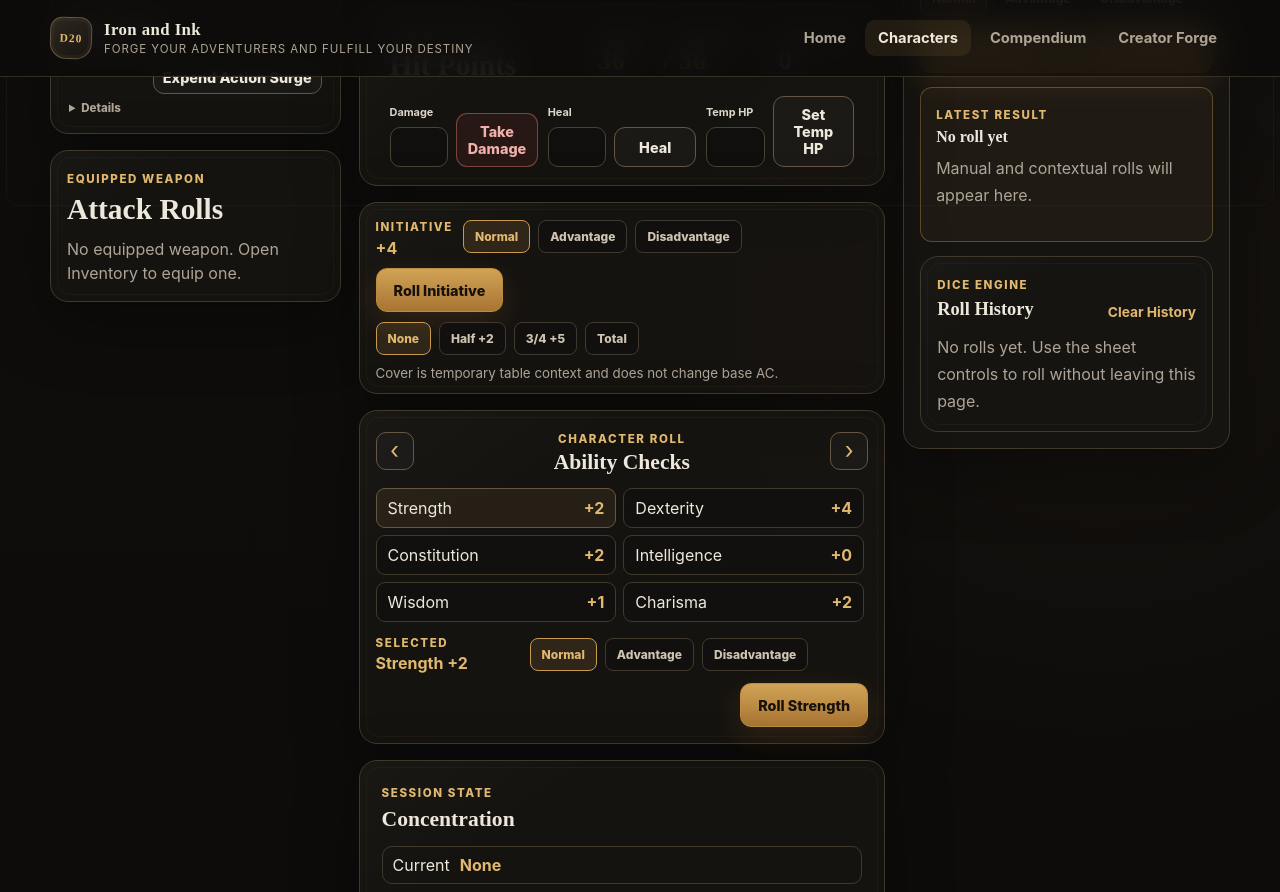
Test: PLAY UI stabilization checkpoint › H/J/M rolls Athletics with its existing modifier and feeds Latest Result plus Roll History
The image size is (1280, 892).
(page scrolled)
Click the button named "Next Character Roll category" at [849, 451], box top-left (830, 432), bottom-right (868, 470)
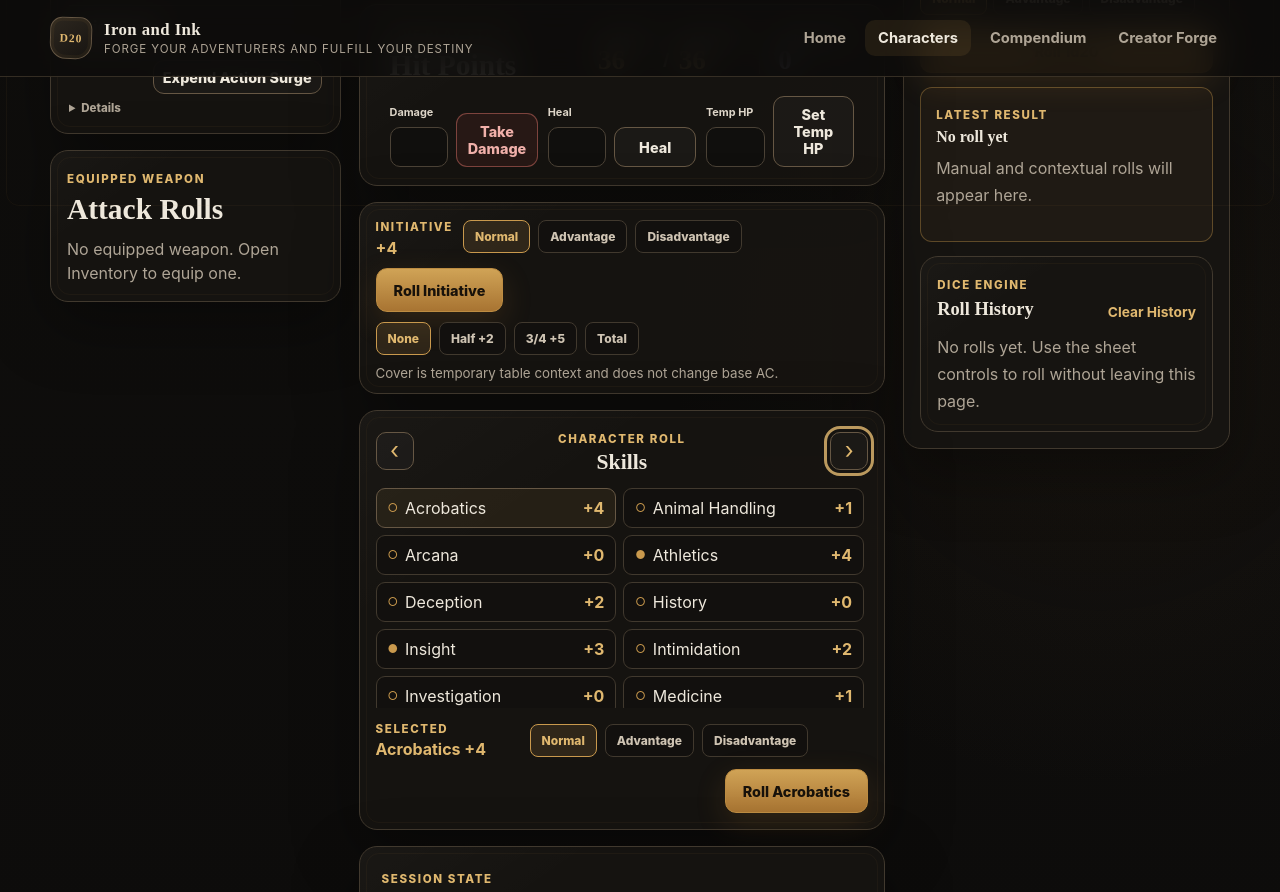
Click the button "● Athletics +4" at [744, 555], box top-left (623, 535), bottom-right (864, 575)
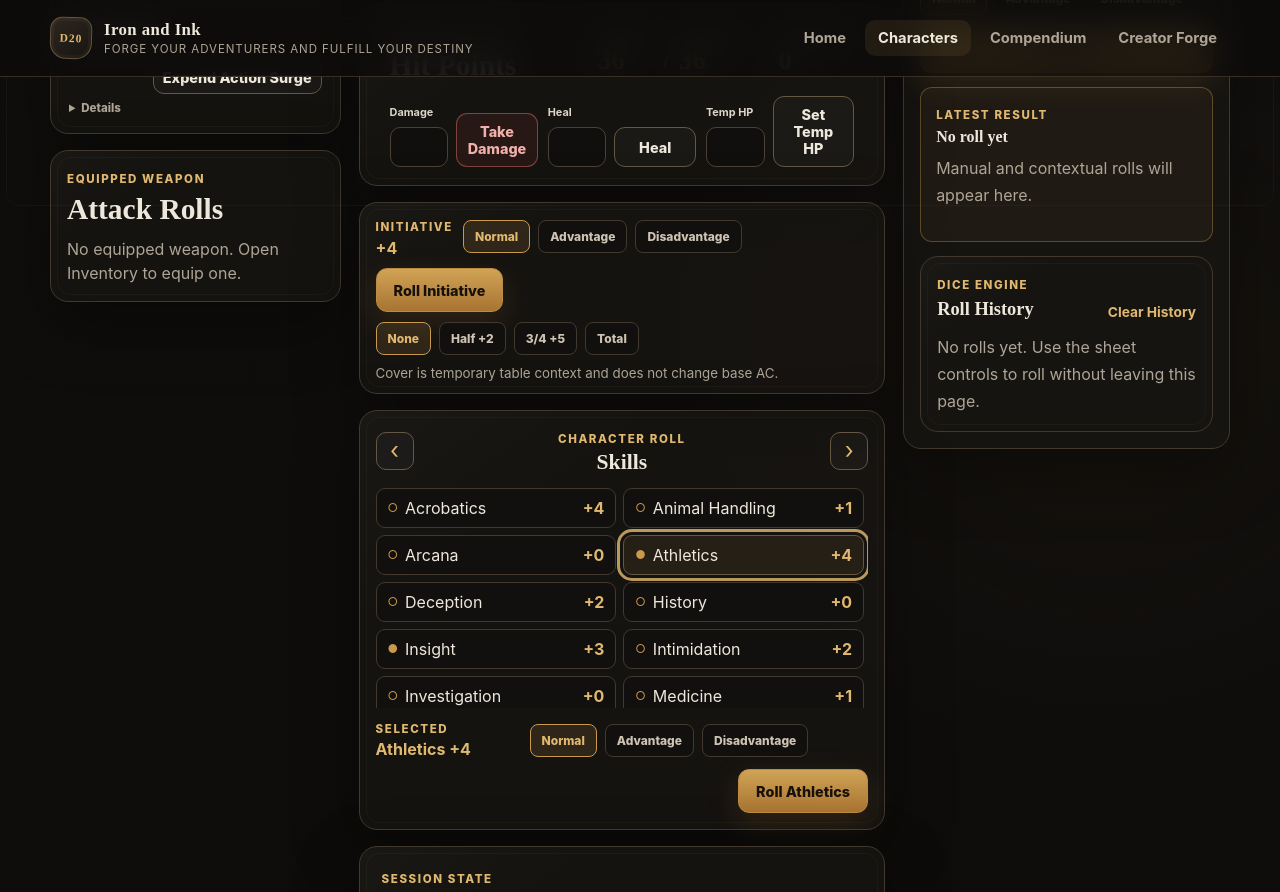
expect the text "Athletics +4" is shown: met, box top-left (376, 739), bottom-right (471, 759)
Click the button "Roll Athletics" at [803, 791], box top-left (738, 769), bottom-right (868, 813)
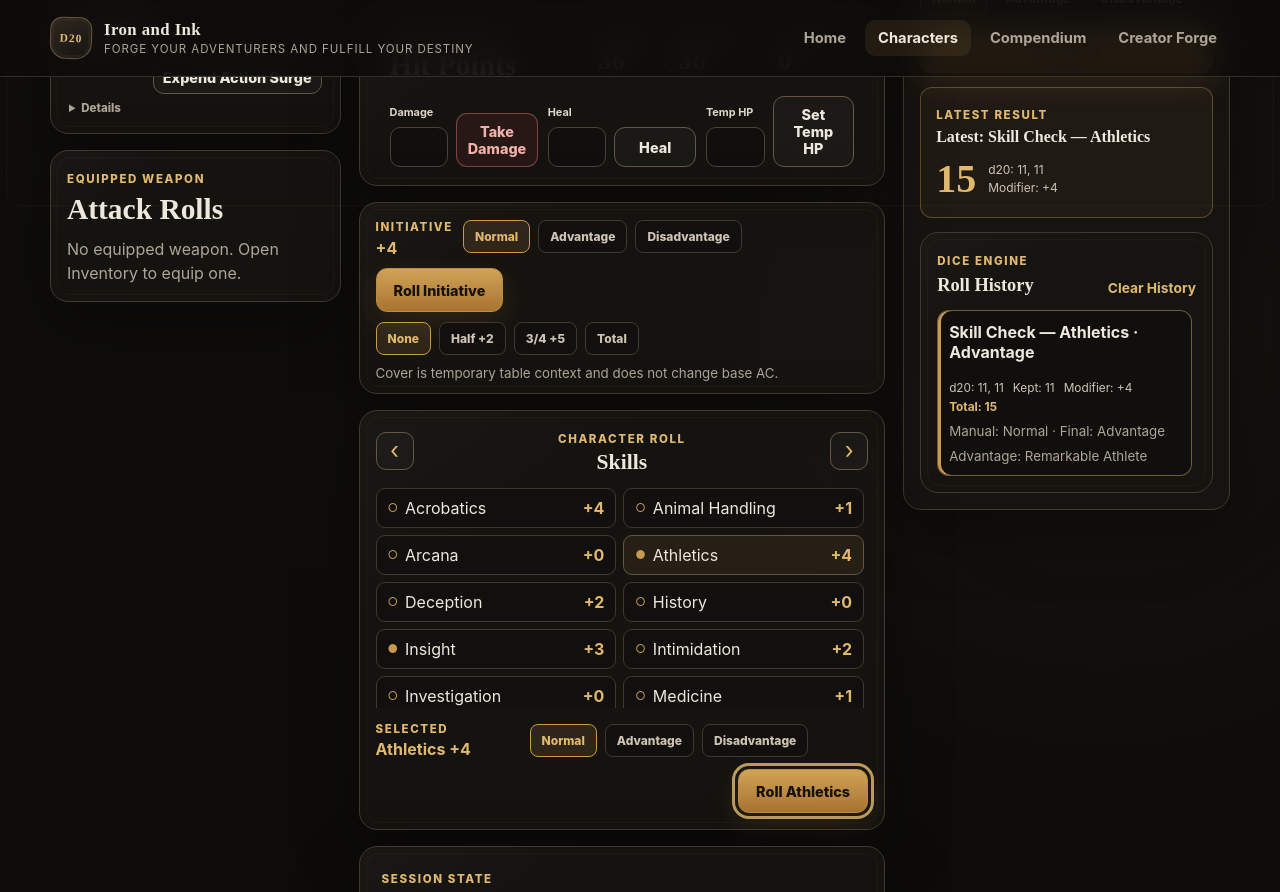
expect the heading "Latest: Skill Check — Athletics" is shown: met, box top-left (936, 128), bottom-right (1150, 145)
expect the text "Skill Check — Athletics · Advantage" is shown: met, box top-left (949, 322), bottom-right (1138, 362)
expect the text "Modifier: +4" in the row of "Kept:" is shown: met, box top-left (1064, 381), bottom-right (1132, 395)
